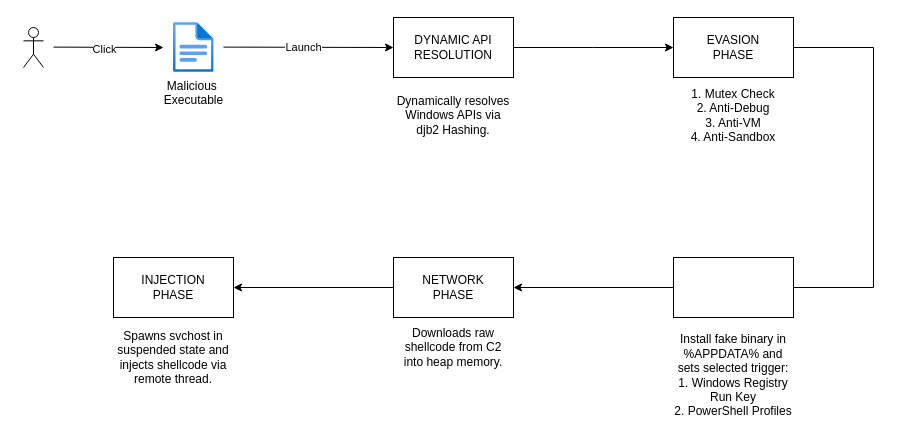
Some shapes in this 899 by 436 pixel diagram are drawn without their labels. Here are the shapes that lost their labels. From the top down, the box of each, then its label:
(22, 26, 44, 68): Victim
(672, 256, 794, 318): PERSISTENCE PHASE
